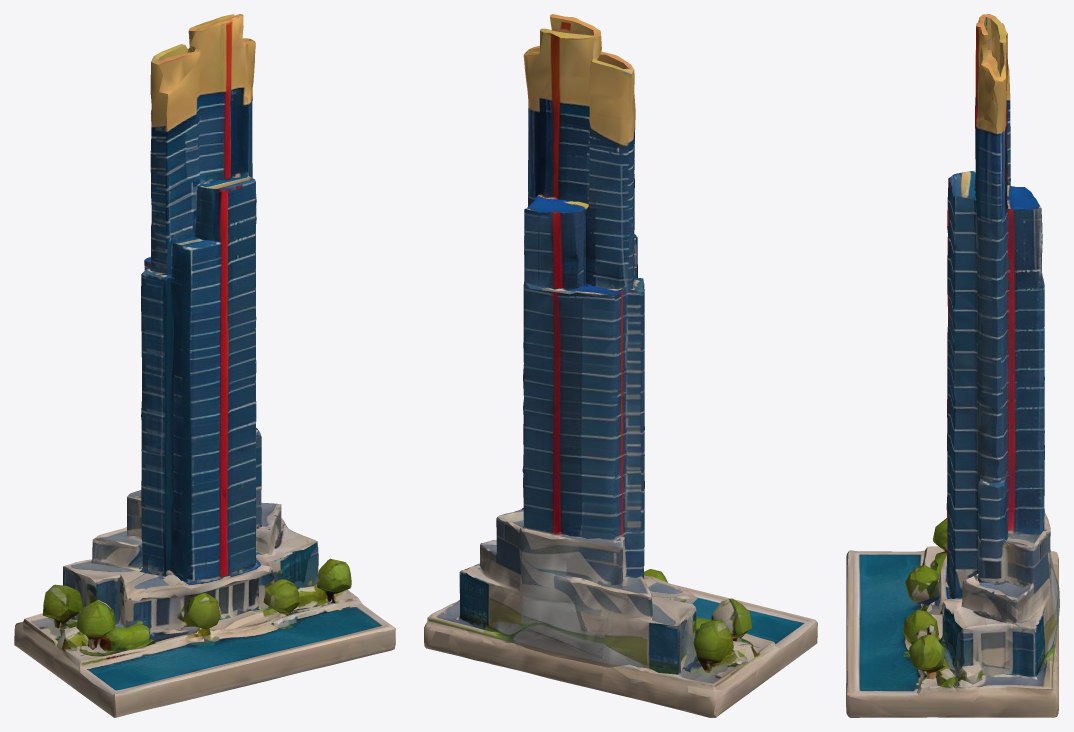
The model's file is eureka-tower.glb.
The picture shows the model from 3 angles, left to right: view 1: azimuth 30°, elevation 25°; view 2: azimuth 150°, elevation 25°; view 3: azimuth 270°, elevation 25°; orthographic projection. The views are drawn at different scales.
Parts seen in each view (by area): view 1: logan-textured.obj; view 2: logan-textured.obj; view 3: logan-textured.obj.
Part boxes in pixels (x1,y1,x2,y2): logan-textured.obj: (14, 14, 395, 717); logan-textured.obj: (424, 14, 817, 717); logan-textured.obj: (846, 14, 1059, 717).
Size of the model in its own units: 0.4879 by 1 by 0.303.
1 material, 1 textured.
